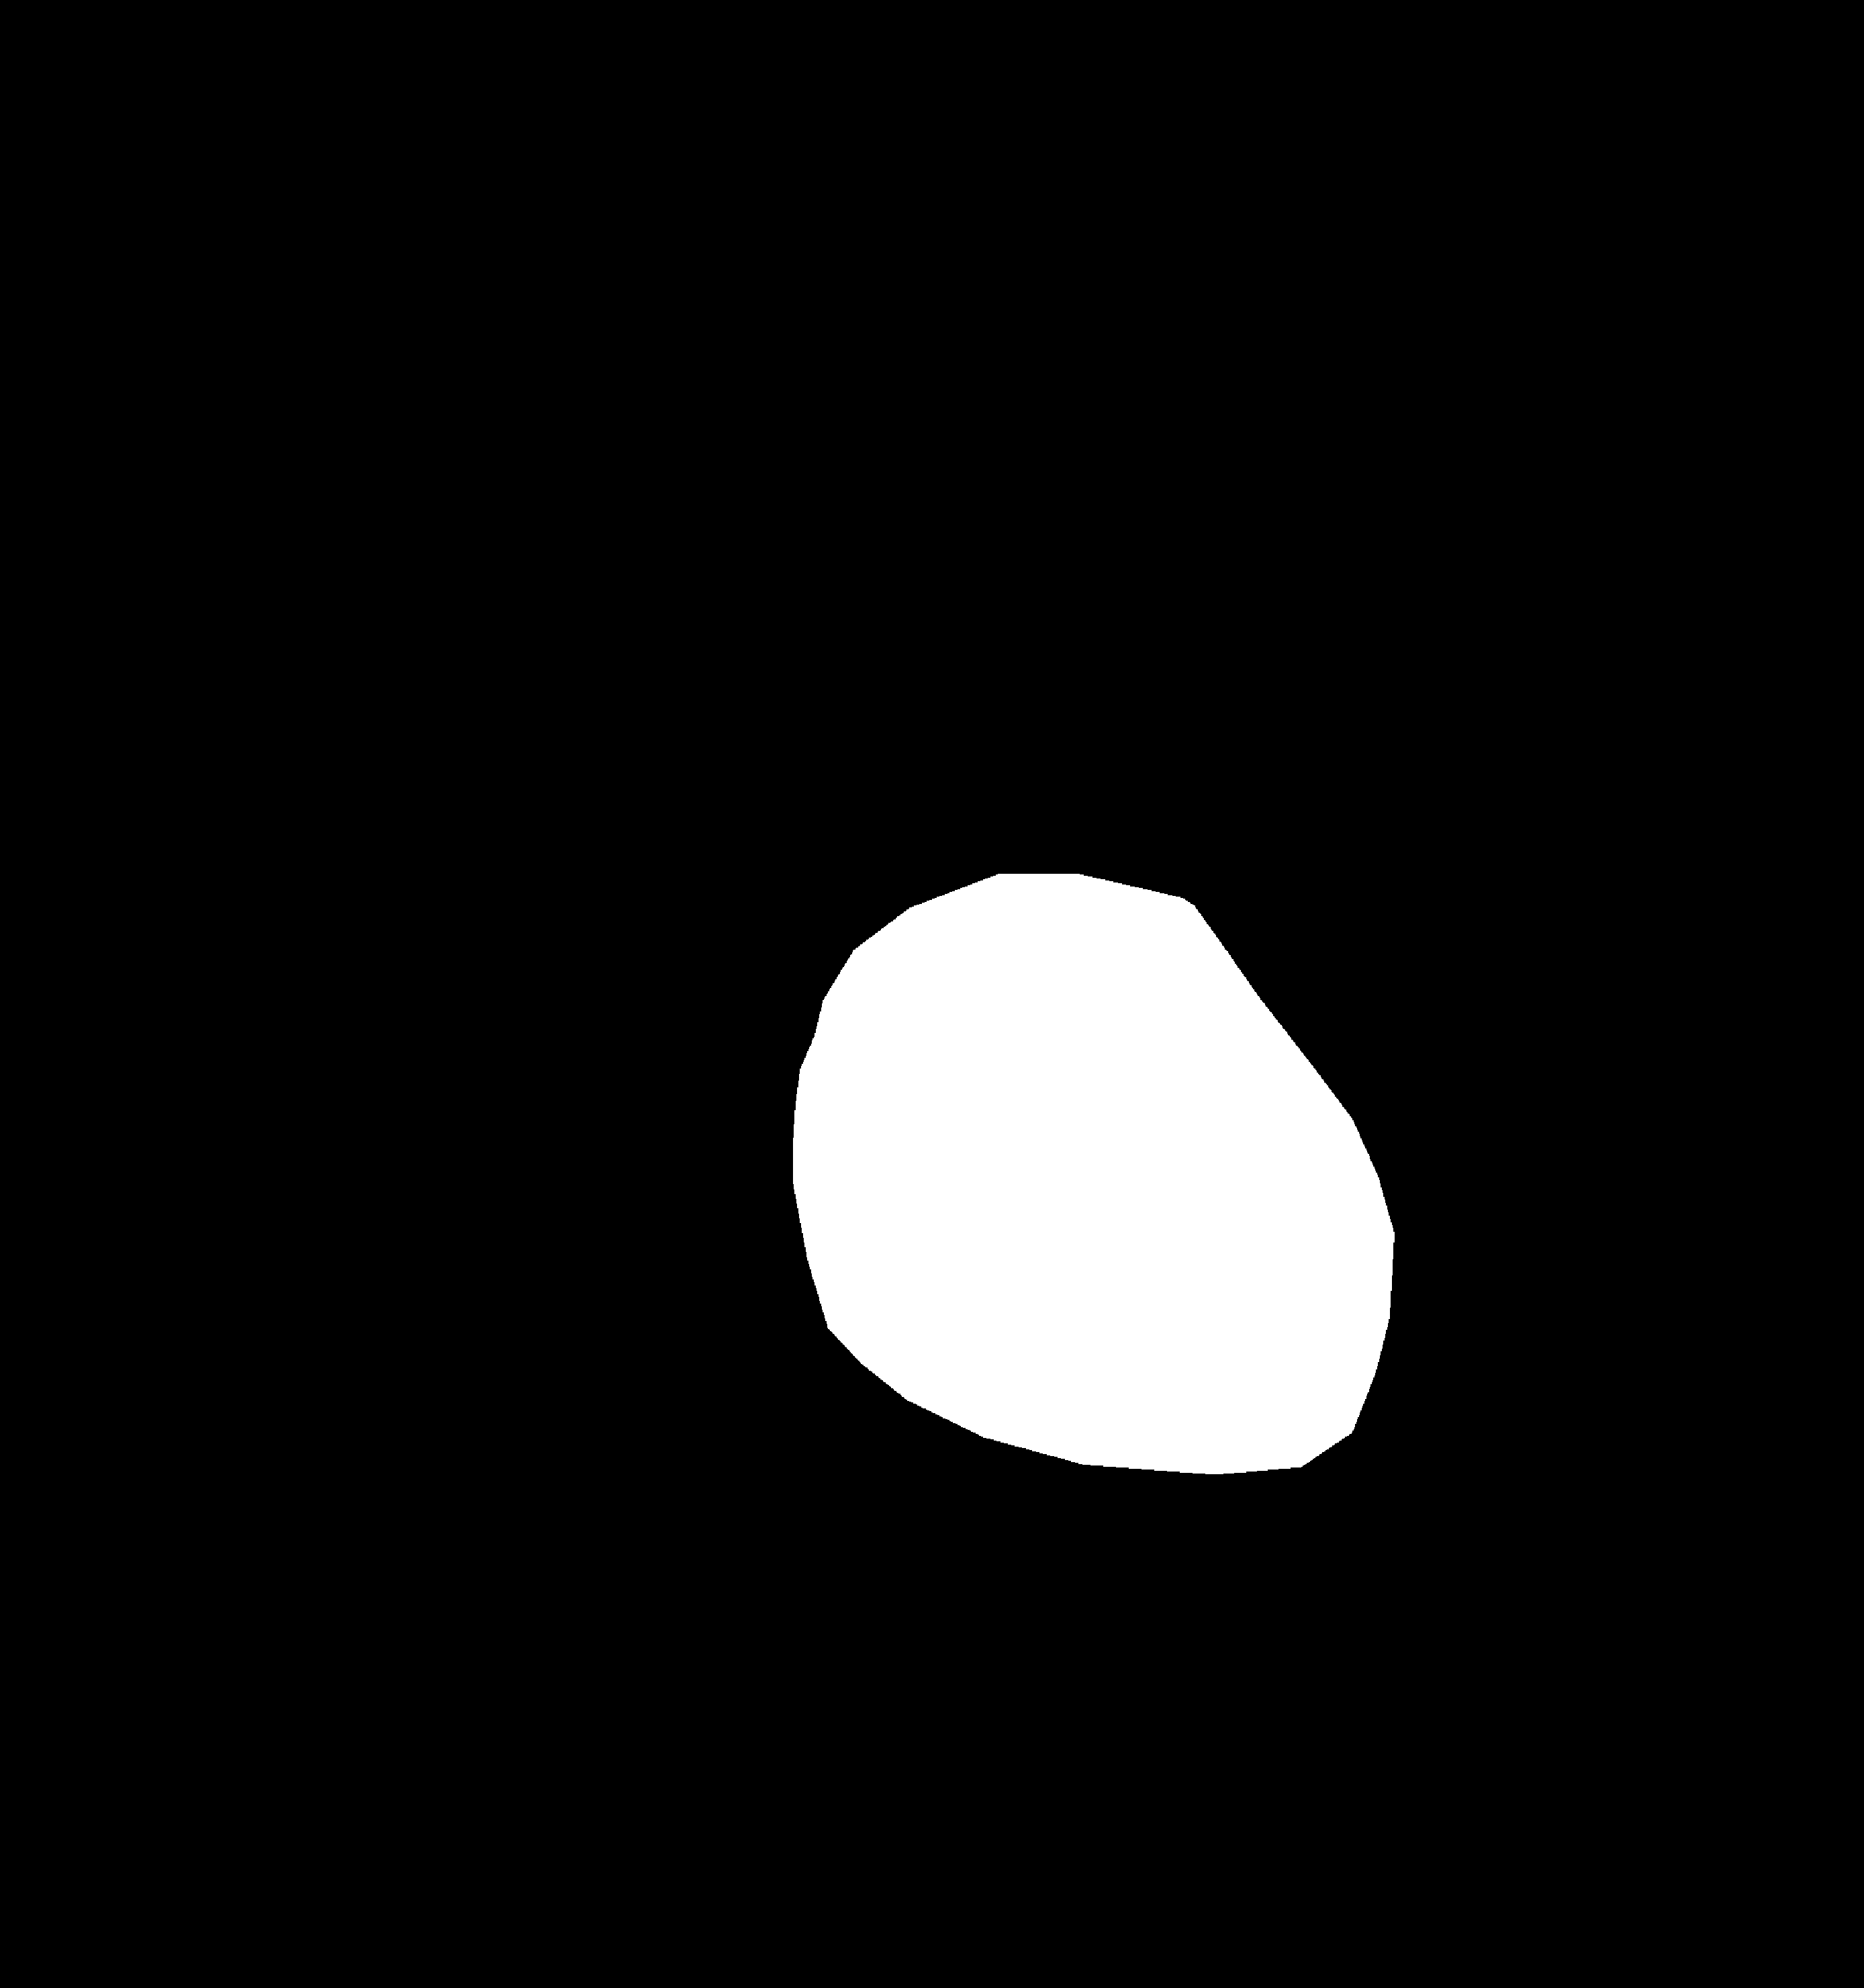heart: (797, 958, 1389, 1468)
left_lung: (228, 296, 892, 1732)
right_lung: (1058, 287, 1661, 1773)
